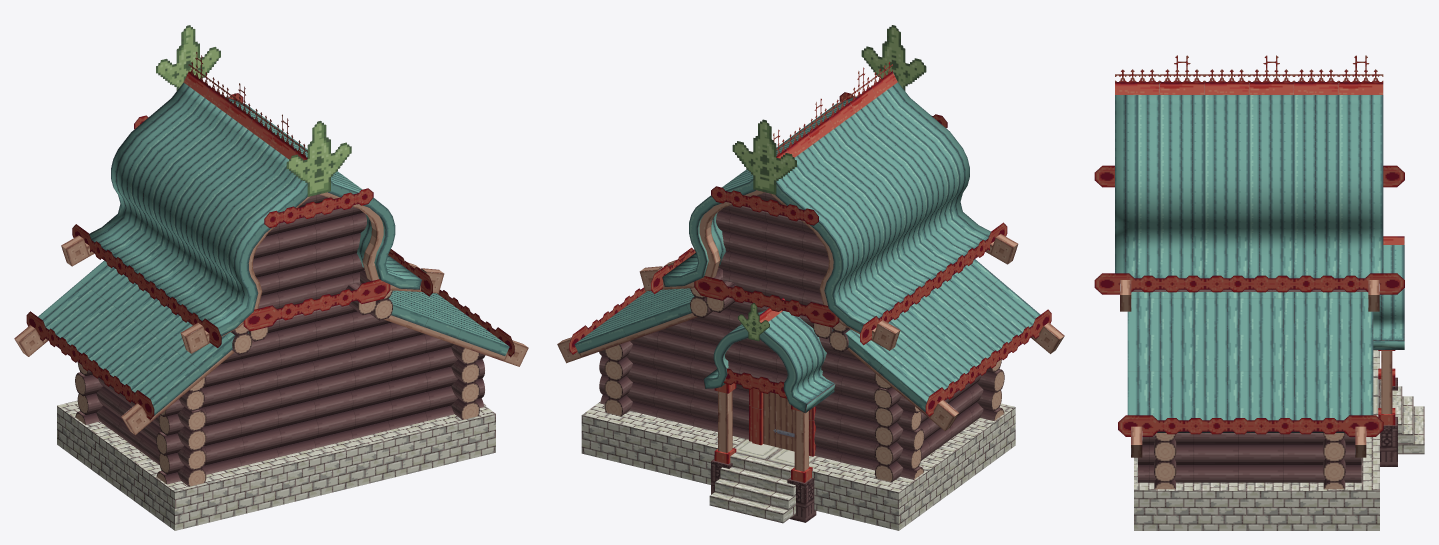
Rendered from wood_house_medium 1.fbx.
The picture shows the model from 3 angles, left to right: view 1: azimuth 30°, elevation 25°; view 2: azimuth 150°, elevation 25°; view 3: azimuth 270°, elevation 25°; orthographic projection. The views are drawn at different scales.
Visible parts, largest first — view 1: wood_house_medium; view 2: wood_house_medium; view 3: wood_house_medium.
Part boxes in pixels (x1,y1,x2,y2): wood_house_medium: [14, 25, 528, 530]; wood_house_medium: [557, 25, 1064, 530]; wood_house_medium: [1094, 55, 1424, 530].
Bounding box in the file's own units: 1079 × 1011 × 741.
